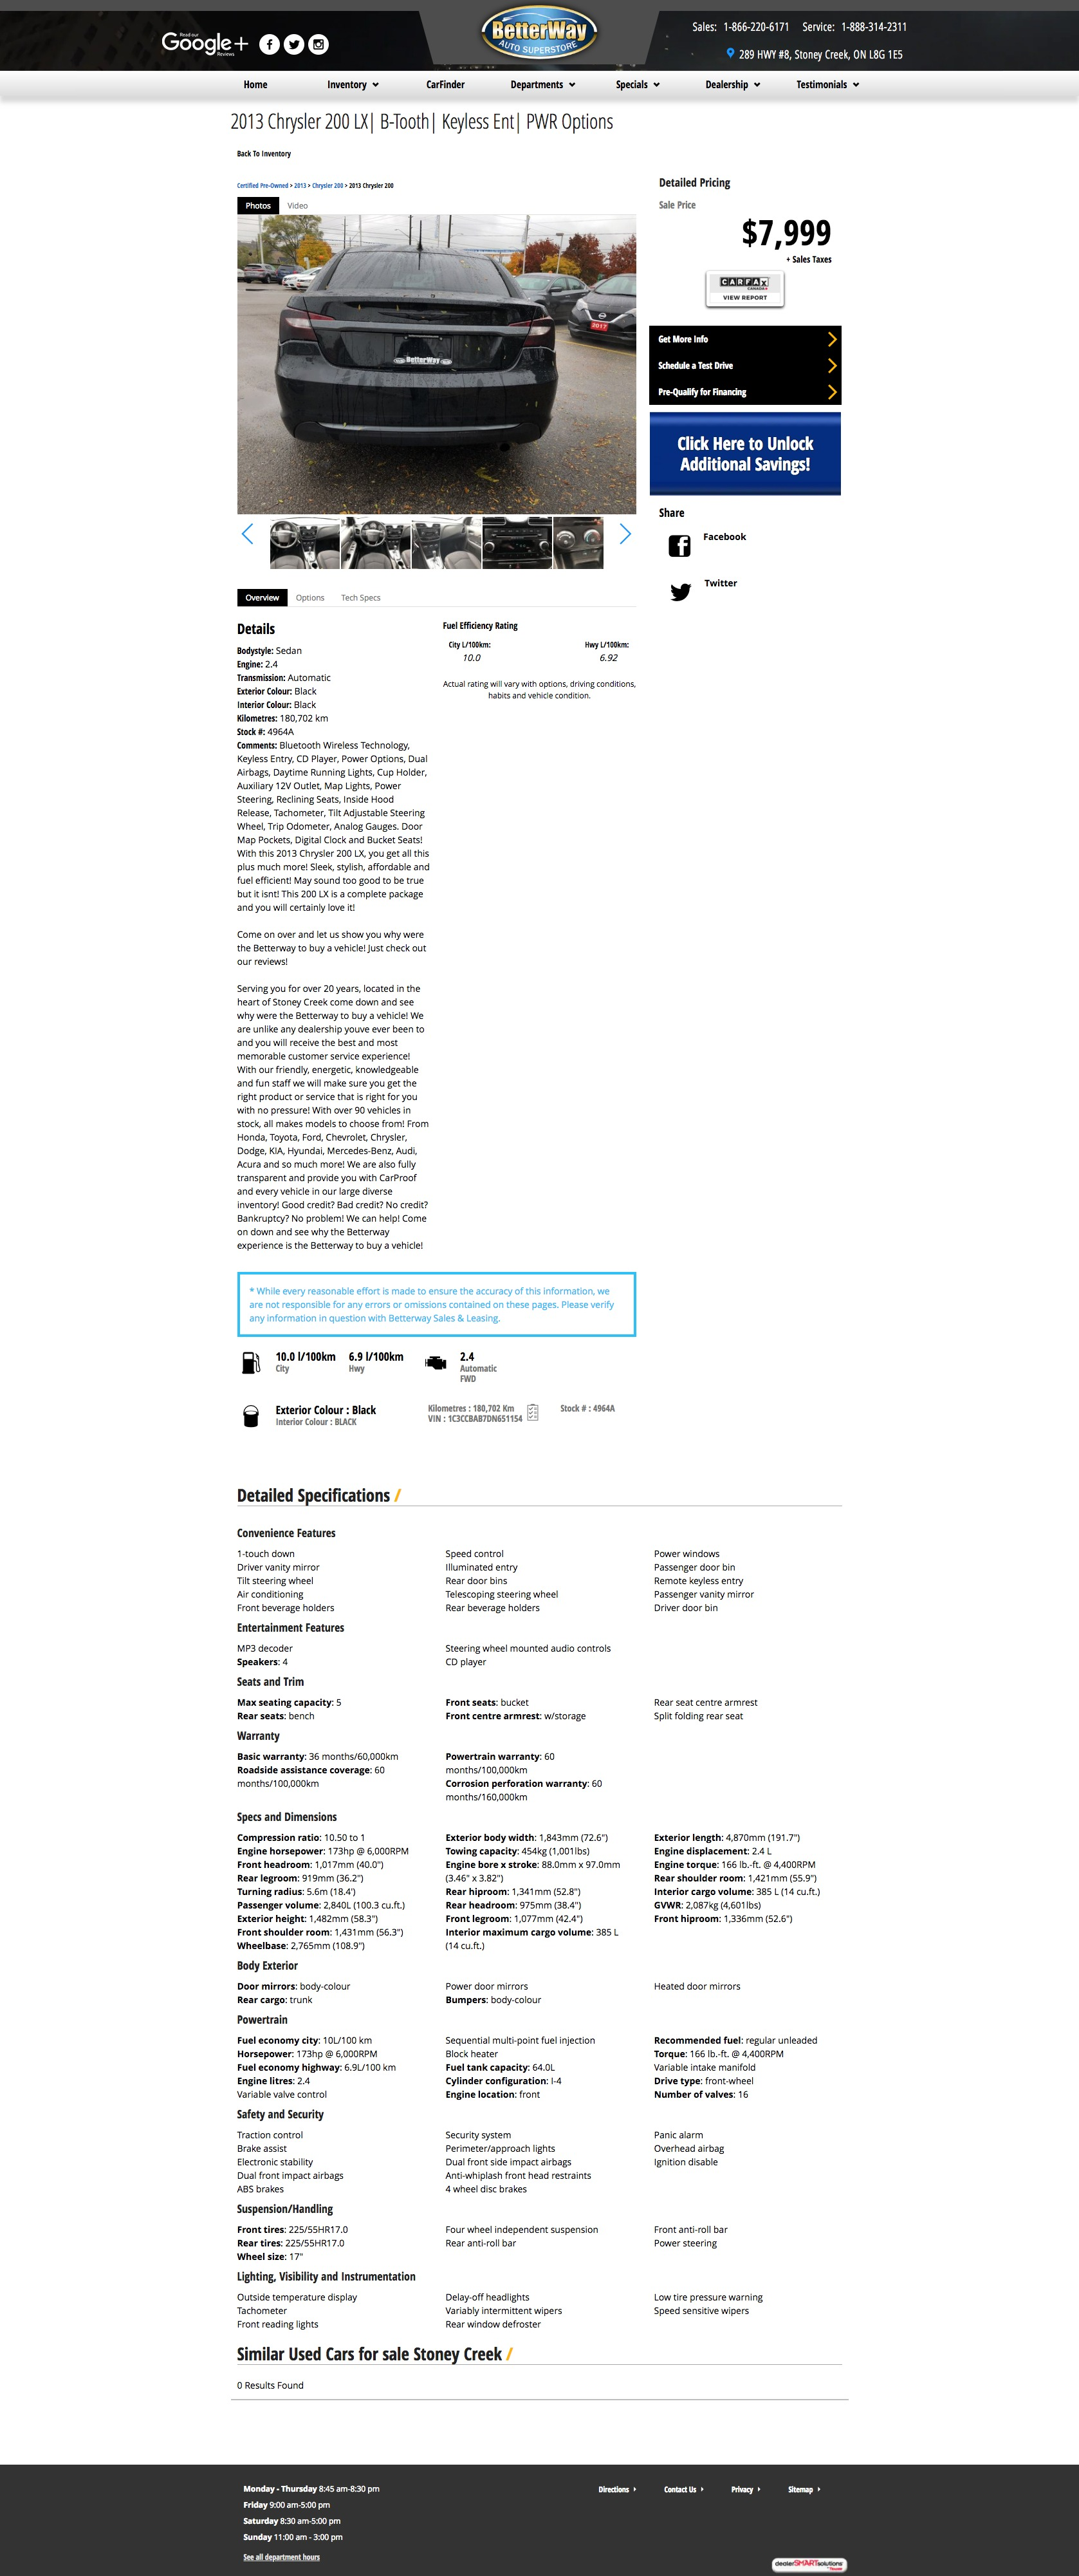car: (619, 524, 631, 544)
